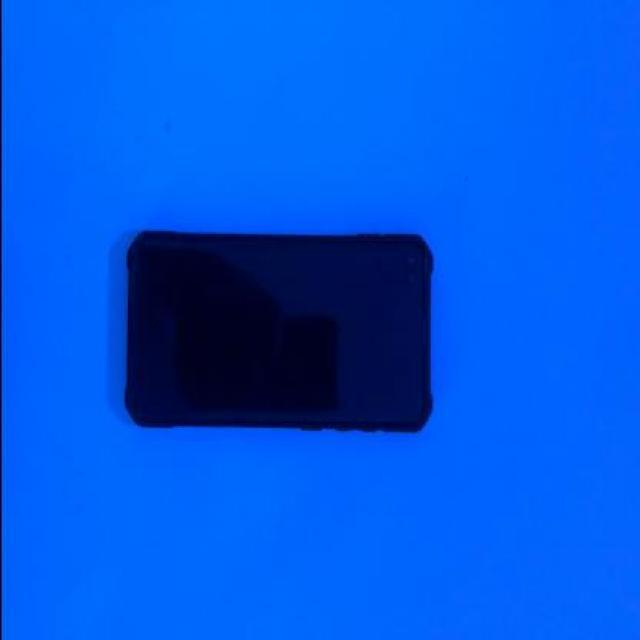phone: (125, 226, 436, 429)
